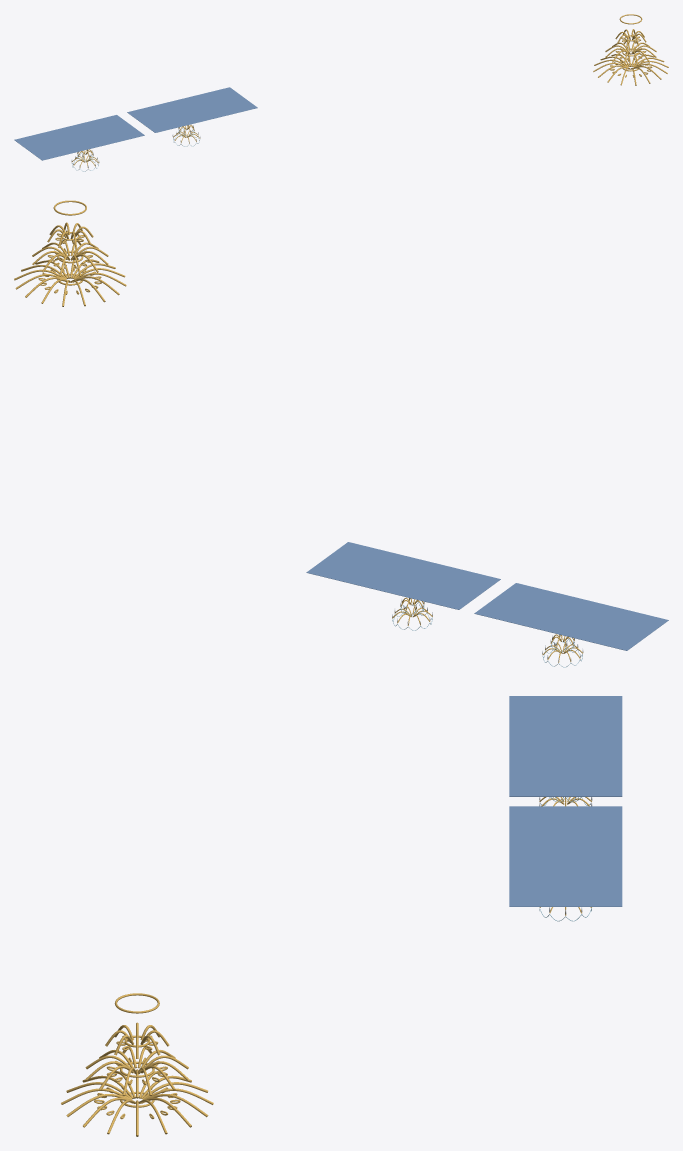
File: KRM_STATIC_014.fbx
3 views of the same model, one above another, from view 1: azimuth 30°, elevation 25°; view 2: azimuth 150°, elevation 25°; view 3: azimuth 270°, elevation 25° (orthographic). The views are drawn at different scales.
Visible parts, largest first — view 1: KRM_STATIC_014; view 2: KRM_STATIC_014; view 3: KRM_STATIC_014.
Part boxes in pixels (left/top/right/bottom): KRM_STATIC_014: left=14, top=14, right=668, bottom=171; KRM_STATIC_014: left=14, top=200, right=668, bottom=667; KRM_STATIC_014: left=61, top=696, right=622, bottom=1136.
Size of the model in its own units: 3137 by 674 by 1442.
Materials: 1 (1 with a texture image).
